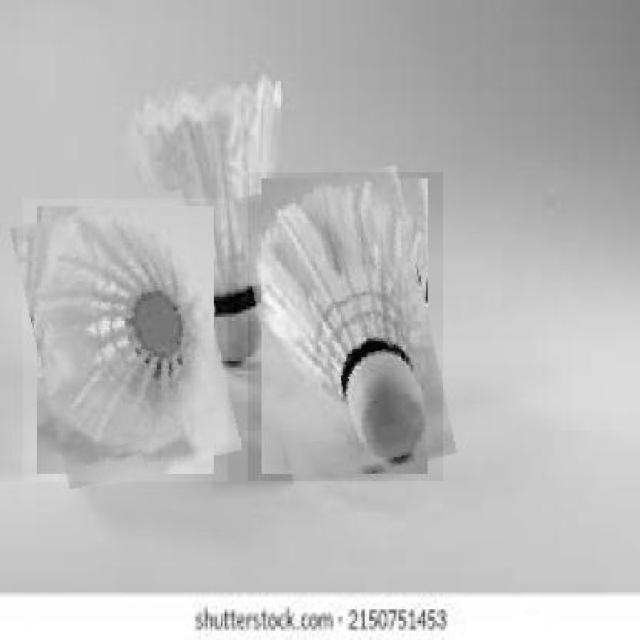Shuttlecock: (248, 172, 443, 480), (23, 198, 228, 482)
